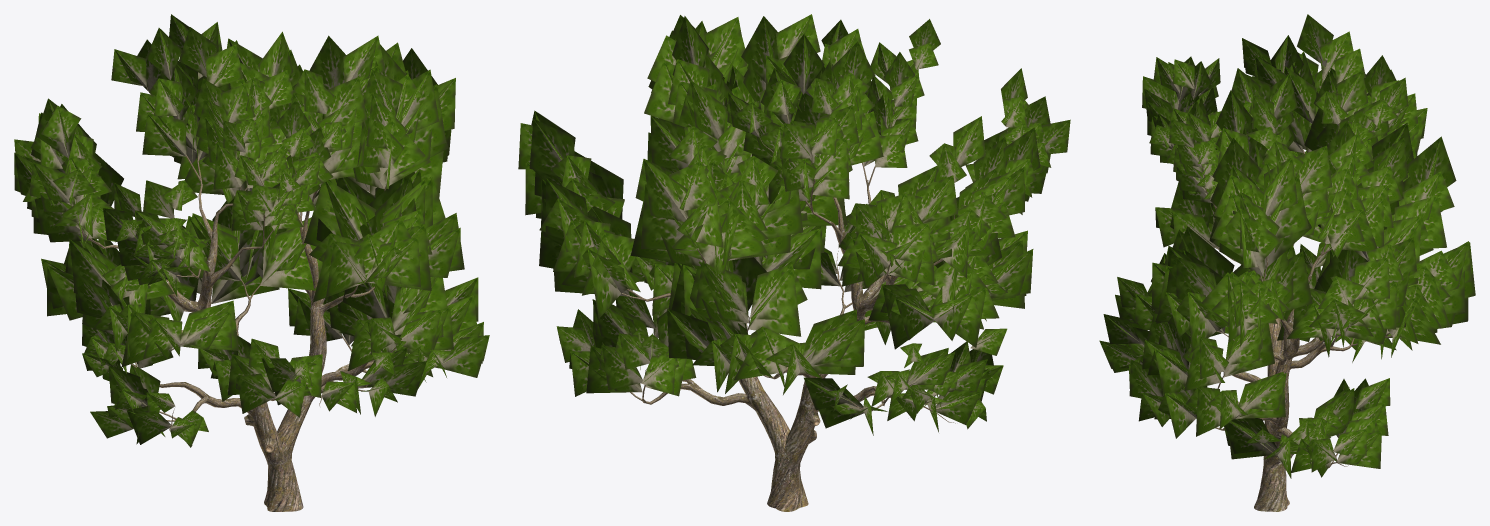
The model's file is oak1.obj.
The picture shows the model from 3 angles, left to right: view 1: azimuth 30°, elevation 25°; view 2: azimuth 150°, elevation 25°; view 3: azimuth 270°, elevation 25°; orthographic projection. The views are drawn at different scales.
Visible parts, largest first — view 1: oak leaf, mossybark02; view 2: oak leaf, mossybark02; view 3: oak leaf, mossybark02.
Part boxes in pixels (x1,y1,x2,y2): oak leaf: [14, 14, 489, 447]; mossybark02: [68, 48, 438, 511]; oak leaf: [518, 14, 1070, 435]; mossybark02: [621, 71, 1007, 511]; oak leaf: [1099, 14, 1475, 478]; mossybark02: [1143, 68, 1392, 511].
Size of the model in its own units: 1737 by 1685 by 1361.
3 materials, 3 textured.
